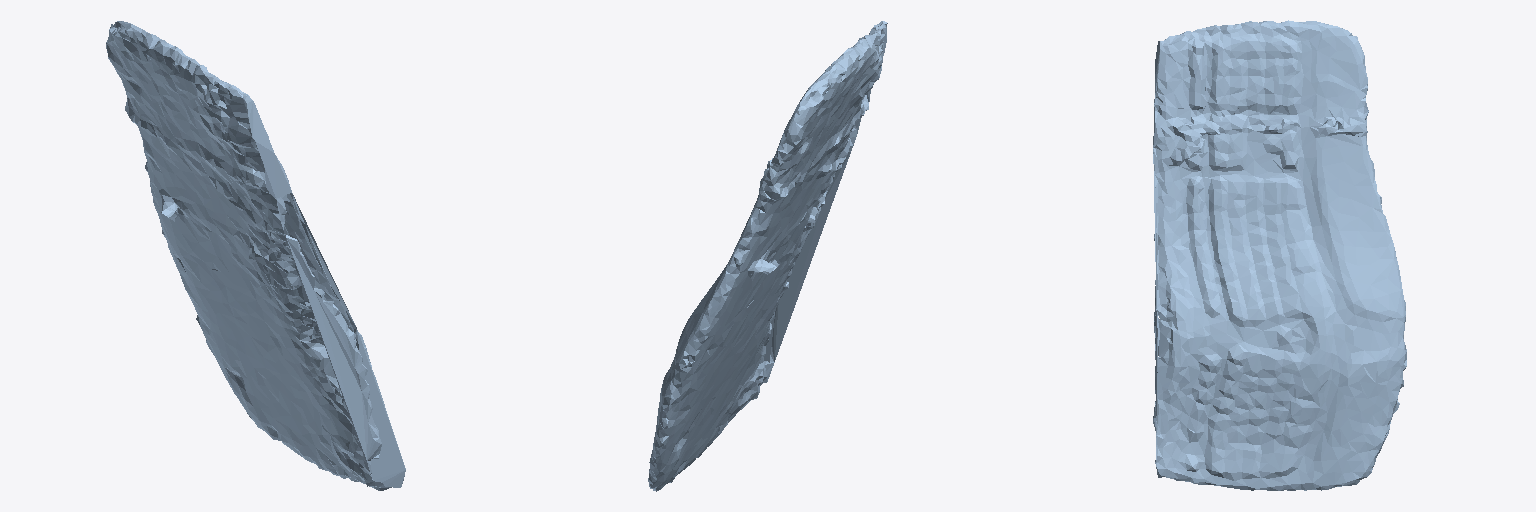
robot.urdf — keyboard.urdf:
<?xml version="1.0" ?>
<robot name="keyboard.urdf">
  <dynamics damping="0.5" friction="0.9"/>
  <link name="baseLink">
    <contact>
      <lateral_friction value="0.9"/>
      <rolling_friction value="0.5"/>
      <stiffness value="30000"/>
      <damping value="1000"/>
    </contact>
    <visual>
      <origin rpy="0 0 0" xyz="0 0 0"/>
      <geometry>
        <mesh filename="objects/keyboard/keyboard.obj" scale="1.0 1.0 1.0"/>
      </geometry>
       <material name="mat">
        <color rgba="0.7 0.8 0.9 1"/>
      </material>
    </visual>
    <collision>
      <origin rpy="0 0 0" xyz="0 0 0"/>
      <geometry>
         <mesh filename="objects/keyboard/keyboard.obj" scale="1.0 1.0 1.0"/>
      </geometry>
    </collision>
  </link>
</robot>

--- Render facts (derived) ---
Views: 3 orthographic renders of the robot side by side, from view 1: azimuth 30°, elevation 25°; view 2: azimuth 150°, elevation 25°; view 3: azimuth 270°, elevation 25°.
Robot: keyboard.urdf — 1 links, 0 joints (none); root link baseLink; default pose: all joints at 0.
Visible links, largest first — view 1: baseLink; view 2: baseLink; view 3: baseLink.
Link boxes in pixels (x1,y1,x2,y2): baseLink: (106,21,405,490); baseLink: (648,21,887,491); baseLink: (1153,20,1406,490).
Size in the robot's own frame: 0.2031 by 0.2699 by 0.4735 metres.
Meshes: 1 distinct files referenced, 1 mesh visuals loaded (1 OBJ).
